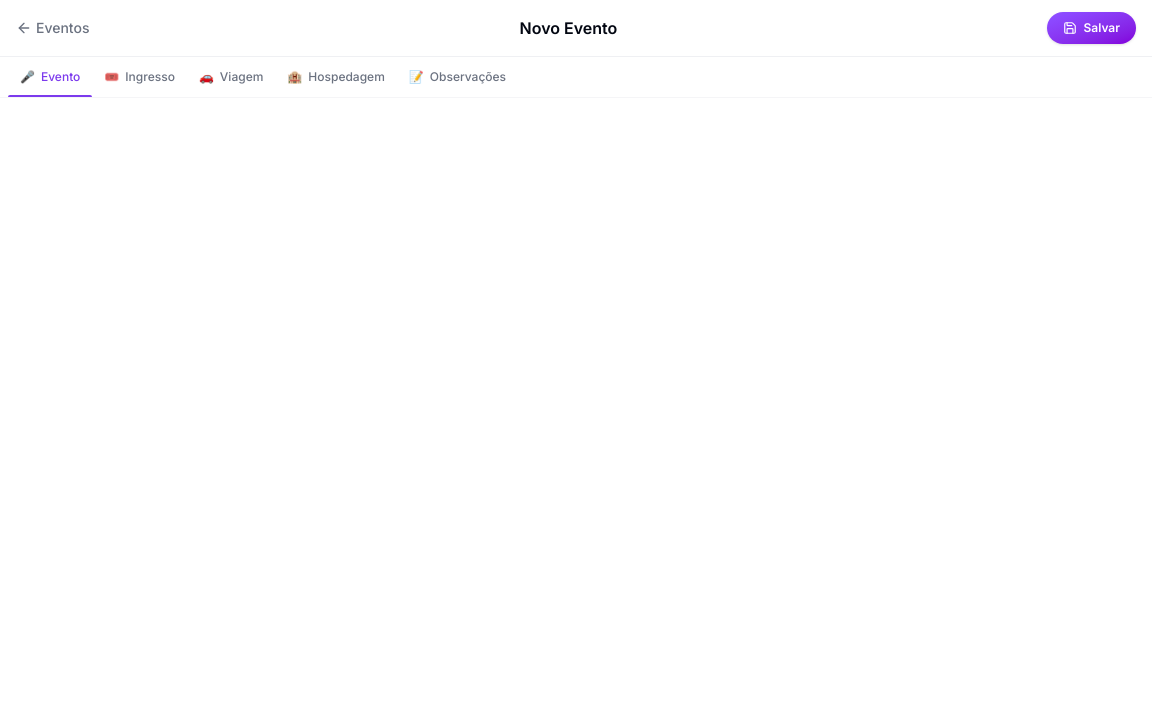
Test: EventForm importação de URL › importa URL do Sympla e preenche campos do formulário
This screenshot has width=1152, height=720.
Click the button "🎟️ Ingresso" at (140, 77), box [92,57,187,97]
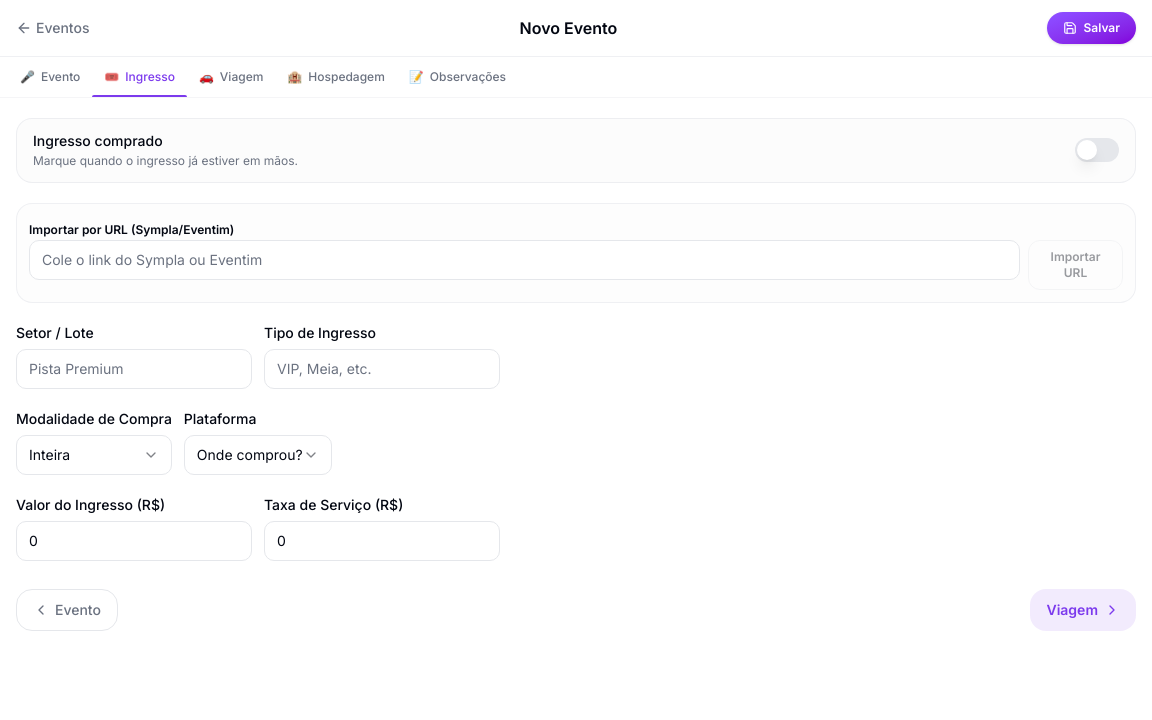
Type "https://www.sympla.com.br/evento/metallica-em-sao-paulo/2873927?date=2026-09-12" into the field with placeholder "Cole o link do Sympla ou Eventim" at (524, 260), box [29,240,1020,280]
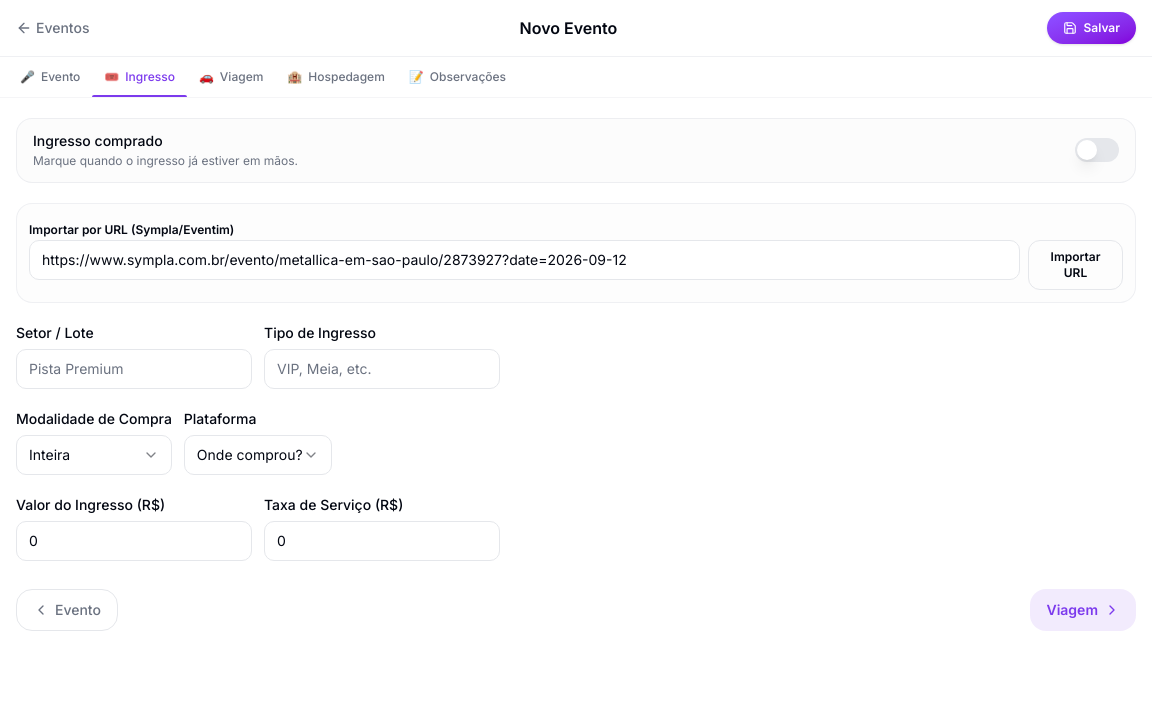
Click the button "Importar URL" at (1076, 264), box [1028,240,1123,290]
(page scrolled)
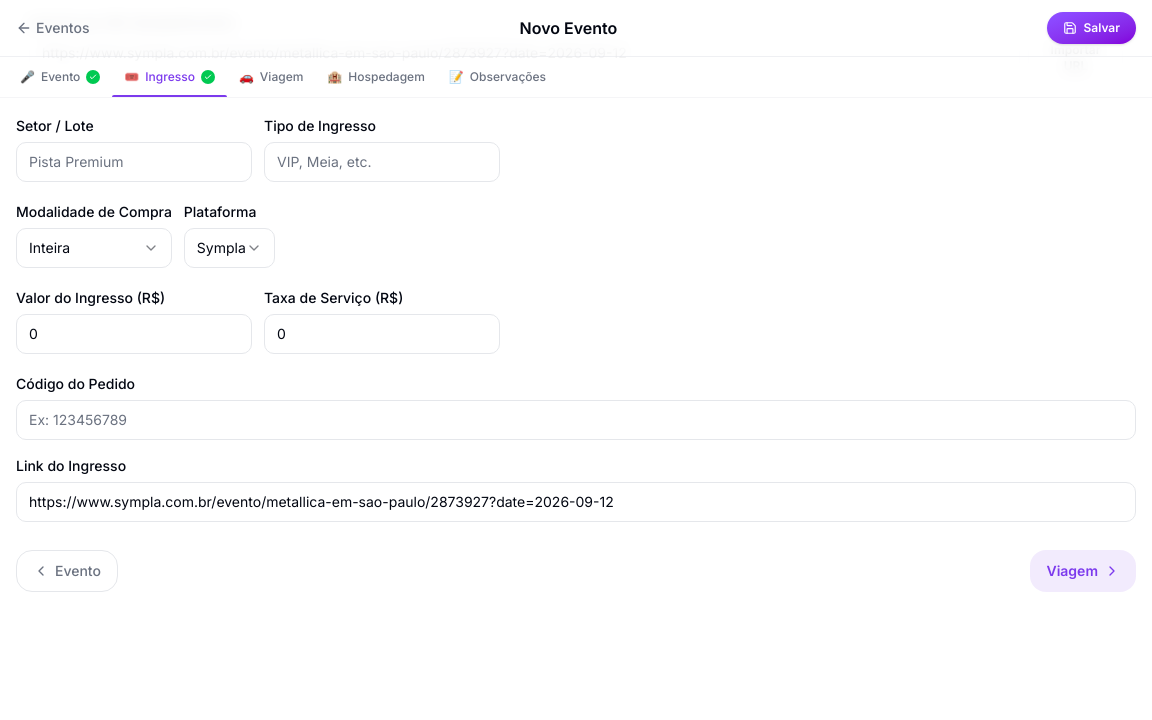
Expected: the field with placeholder "https://..." holds "https://www.sympla.com.br/evento/metallica-em-sao-paulo/2873927?date=2026-09-12", [16,482,1136,522]
